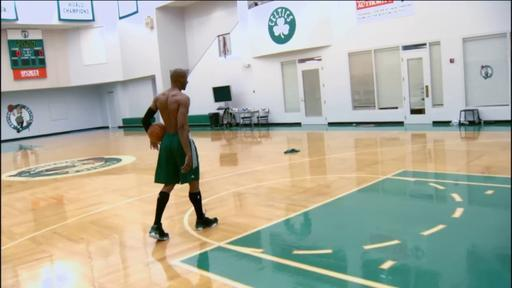ball: (147, 124, 165, 142)
human: (141, 68, 219, 241)
